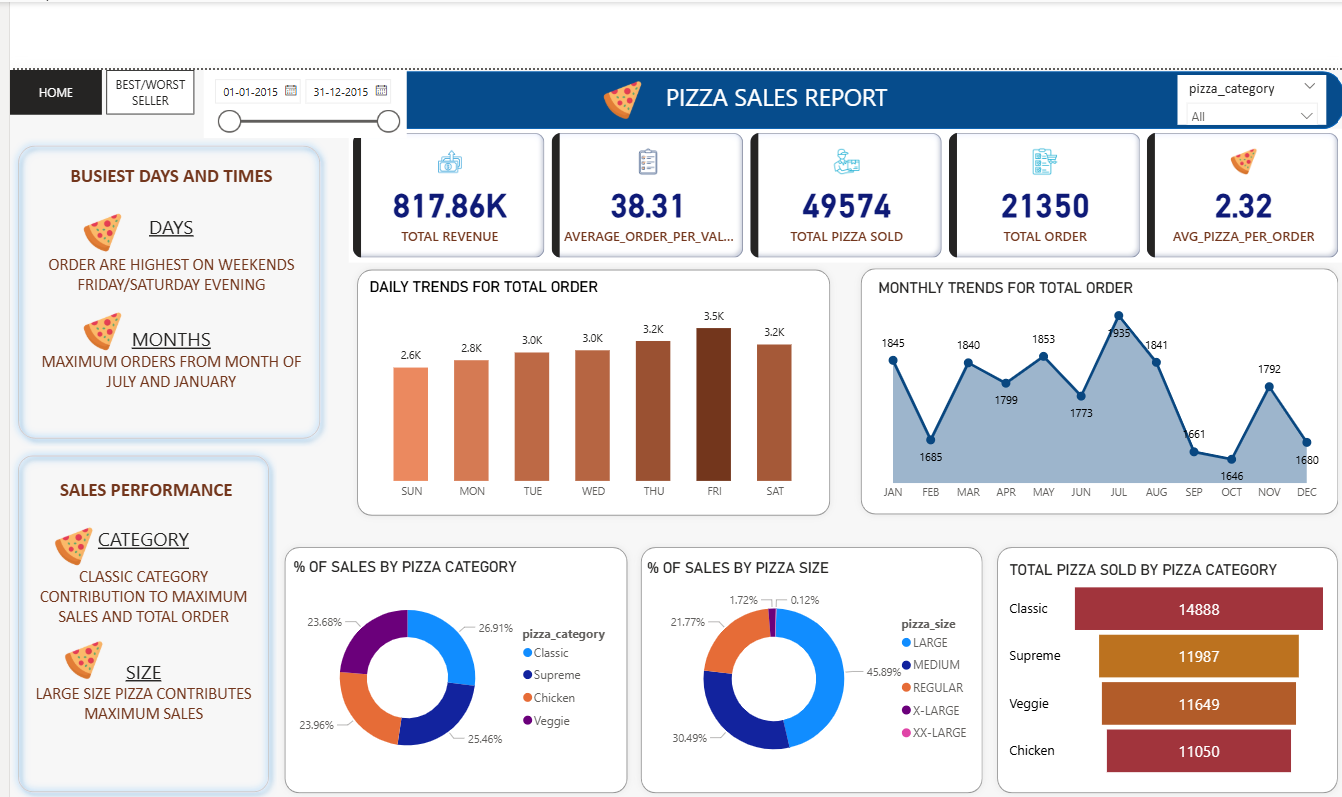

The dashboard page shown, as its layout file describes it:
{"tool":"powerbi","page":{"name":"HOME","canvas":[1500,820],"ordinal":0},"visuals":[{"type":"cardVisual","fields":{"Data":["pizza_sales.TOTAL REVENUE","pizza_sales.AVERAGE_ORDER_PER_VALUE","pizza_sales.TOTAL PIZZA SOLD","pizza_sales.TOTAL ORDER","pizza_sales.AVG_PIZZA_PER_ORDER"]},"box":[380,66.2,1120,150],"z":0},{"type":"shape","box":[227.5,1.2,1272.5,65],"z":1000},{"type":"textbox","box":[688.8,7.5,346.2,53.8],"z":2000},{"type":"image","box":[633.8,7.5,110,53.8],"z":3000},{"type":"shape","box":[382.5,216.2,547.5,292.5],"z":4000},{"type":"columnChart","title":"DAILY TRENDS FOR TOTAL ORDER","fields":{"Category":["pizza_sales.ORDER_DAY"],"Y":["pizza_sales.TOTAL ORDER"]},"box":[398.8,232.5,513.8,258.8],"z":5000},{"type":"shape","box":[947.5,215,552.5,292.5],"z":6000},{"type":"areaChart","title":"MONTHLY TRENDS FOR TOTAL ORDER","fields":{"Category":["pizza_sales.order month"],"Y":["pizza_sales.TOTAL ORDER"]},"box":[970,235,508.8,258.8],"z":7000},{"type":"shape","box":[300,527.5,401.2,292.5],"z":8000},{"type":"shape","box":[701.2,527.5,400,292.5],"z":9000},{"type":"shape","box":[1101.2,527.5,398.8,292.5],"z":10000},{"type":"donutChart","title":"% OF SALES BY PIZZA CATEGORY","fields":{"Category":["pizza_sales.pizza_category"],"Y":["pizza_sales.TOTAL REVENUE"]},"box":[312.5,547.5,376.2,251.2],"z":11000},{"type":"donutChart","title":"% OF SALES BY PIZZA SIZE","fields":{"Category":["pizza_sales.pizza_size"],"Y":["pizza_sales.TOTAL REVENUE"]},"box":[711.2,548.8,378.8,251.2],"z":12000},{"type":"funnel","title":"TOTAL PIZZA SOLD BY PIZZA CATEGORY","fields":{"Y":["pizza_sales.TOTAL PIZZA SOLD"],"Category":["pizza_sales.pizza_category"]},"box":[1117.5,552.5,367.5,247.5],"z":13000},{"type":"shape","box":[0,76.2,357.5,347.5],"z":14000},{"type":"textbox","box":[27.5,101.2,306.2,55],"z":15000},{"type":"textbox","box":[27.5,156.2,306.2,240],"z":16000},{"type":"image","box":[48.8,156.2,110,53.8],"z":17000},{"type":"image","box":[48.8,266.2,110,53.8],"z":18000},{"type":"shape","box":[0,423.8,300,396.2],"z":19000},{"type":"textbox","box":[0,453.8,306.2,55],"z":20000},{"type":"textbox","box":[16.2,507.5,266.2,291.2],"z":21000},{"type":"image","box":[16.2,508.8,110,53.8],"z":22000},{"type":"image","box":[27.5,636.2,110,53.8],"z":23000},{"type":"slicer","fields":{"Values":["pizza_sales.pizza_category"]},"box":[1311.2,5,167.5,56.2],"z":24000},{"type":"slicer","fields":{"Values":["pizza_sales.order_date"]},"box":[218.1,0,228.2,76.1],"z":25000},{"type":"pageNavigator","box":[0,0,103.9,50.6],"z":26000},{"type":"pageNavigator","box":[108.1,0,99.7,50.6],"z":27000}]}

Visuals, with their boxes on the page's 1500x820 design canvas (x1, y1, x2, y2). These are canvas units, not pixel positions in the 1342x797 screenshot, which may show the page scaled, cropped or inside an application window:
cardVisual - pizza_sales.TOTAL REVENUE x pizza_sales.AVERAGE_ORDER_PER_VALUE: <box>380,66,1500,216</box>
shape: <box>228,1,1500,66</box>
textbox: <box>689,8,1035,61</box>
image: <box>634,8,744,61</box>
shape: <box>382,216,930,509</box>
"DAILY TRENDS FOR TOTAL ORDER" columnChart: <box>399,232,913,491</box>
shape: <box>948,215,1500,508</box>
"MONTHLY TRENDS FOR TOTAL ORDER" areaChart: <box>970,235,1479,494</box>
shape: <box>300,528,701,820</box>
shape: <box>701,528,1101,820</box>
shape: <box>1101,528,1500,820</box>
"% OF SALES BY PIZZA CATEGORY" donutChart: <box>312,548,689,799</box>
"% OF SALES BY PIZZA SIZE" donutChart: <box>711,549,1090,800</box>
"TOTAL PIZZA SOLD BY PIZZA CATEGORY" funnel: <box>1118,552,1485,800</box>
shape: <box>0,76,358,424</box>
textbox: <box>28,101,334,156</box>
textbox: <box>28,156,334,396</box>
image: <box>49,156,159,210</box>
image: <box>49,266,159,320</box>
shape: <box>0,424,300,820</box>
textbox: <box>0,454,306,509</box>
textbox: <box>16,508,282,799</box>
image: <box>16,509,126,563</box>
image: <box>28,636,138,690</box>
slicer - pizza_sales.pizza_category: <box>1311,5,1479,61</box>
slicer - pizza_sales.order_date: <box>218,0,446,76</box>
pageNavigator: <box>0,0,104,51</box>
pageNavigator: <box>108,0,208,51</box>
